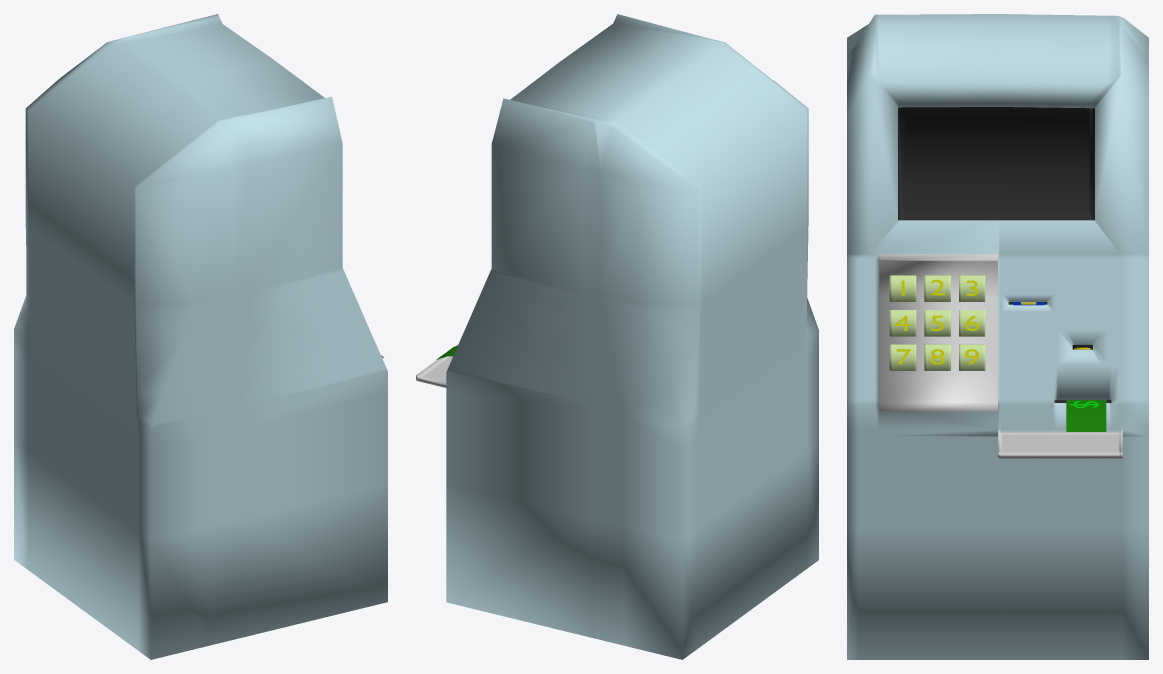
File: machine.glb
3 views of the same model, side by side, from view 1: azimuth 30°, elevation 25°; view 2: azimuth 150°, elevation 25°; view 3: azimuth 270°, elevation 25° (orthographic). The views are drawn at different scales.
Parts seen in each view (by area): view 1: Cube; view 2: Cube; view 3: Cube, Plane, Cube.002, Cube.008, Cube.005, Cube.006, Cube.004, Cube.003, Cube.001, Cube.007, Cube.009.
Part boxes in pixels (x1,y1,x2,y2): Cube: [14, 14, 387, 659]; Cube: [416, 14, 818, 659]; Cube: [847, 14, 1148, 659]; Plane: [1066, 400, 1106, 431]; Cube.002: [889, 275, 916, 301]; Cube.008: [889, 344, 916, 370]; Cube.005: [889, 310, 916, 336]; Cube.006: [924, 310, 950, 336]; Cube.004: [959, 275, 985, 301]; Cube.003: [924, 275, 950, 301]; Cube.001: [959, 344, 985, 370]; Cube.007: [959, 310, 985, 336]; Cube.009: [924, 344, 950, 370].
Bounding box in the file's own units: 2.38 × 4.11 × 2.
